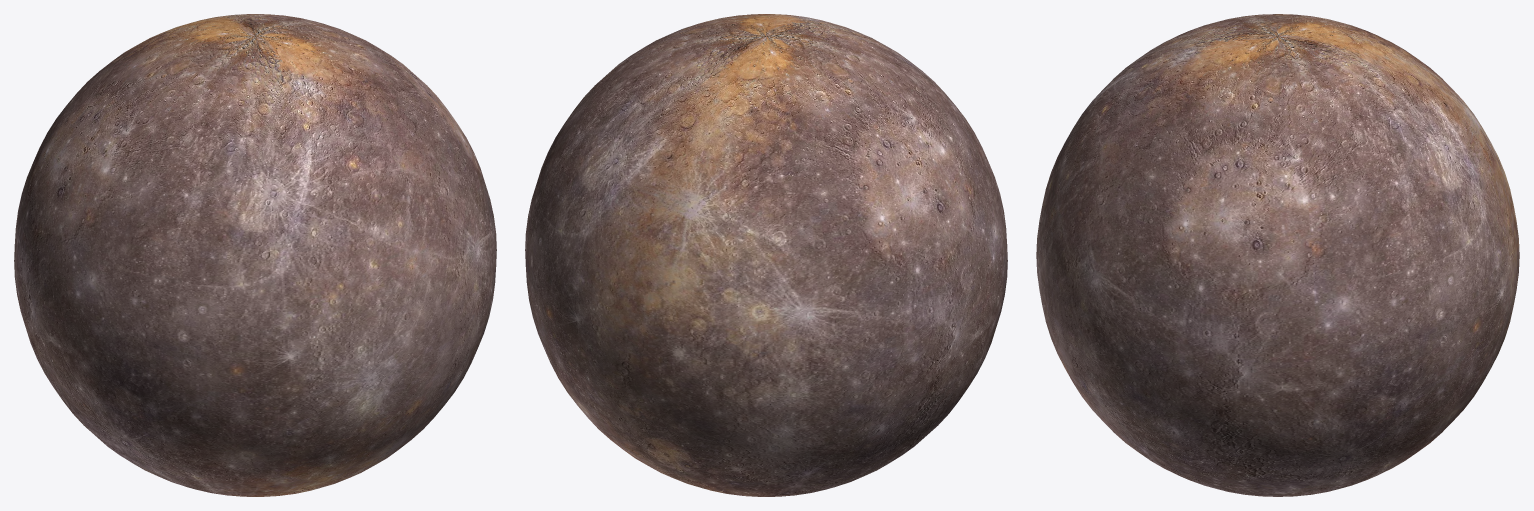
Rendered from mercury_comp.glb.
3 renders of one model, left to right at view 1: azimuth 30°, elevation 25°; view 2: azimuth 150°, elevation 25°; view 3: azimuth 270°, elevation 25°, orthographic.
Parts seen in each view (by area): view 1: mercury_GEO_n3d; view 2: mercury_GEO_n3d; view 3: mercury_GEO_n3d.
Boxes of the visible parts, x1=… form: mercury_GEO_n3d: x1=14, y1=14, x2=496, y2=496; mercury_GEO_n3d: x1=525, y1=14, x2=1007, y2=496; mercury_GEO_n3d: x1=1036, y1=14, x2=1519, y2=496.
Bounding box in the file's own units: 0.0841 × 0.0841 × 0.0841.
Materials: 1 (1 with a texture image).
